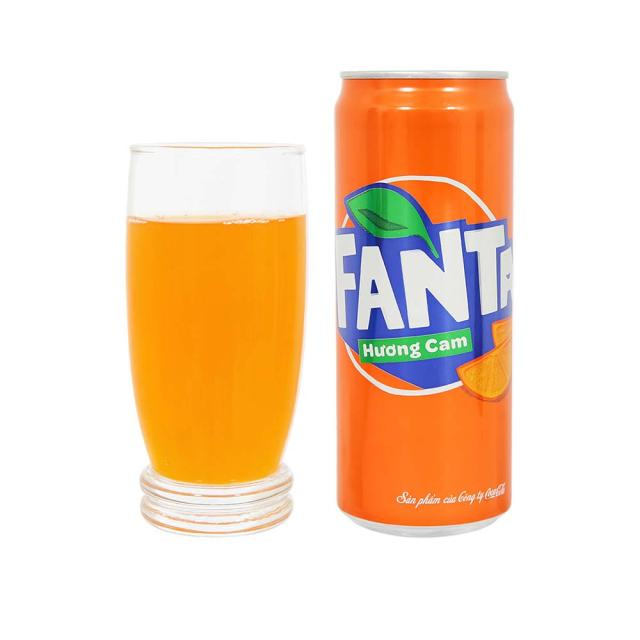fanta: (326, 66, 524, 534)
